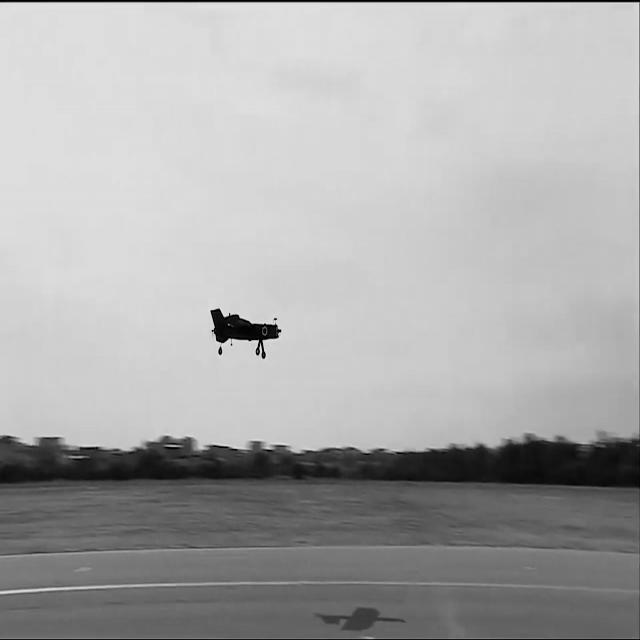iha: (239, 302, 255, 364)
